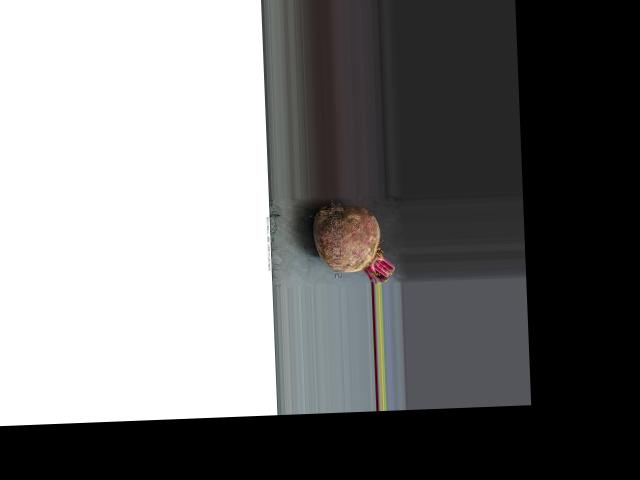beet: (312, 202, 394, 285)
